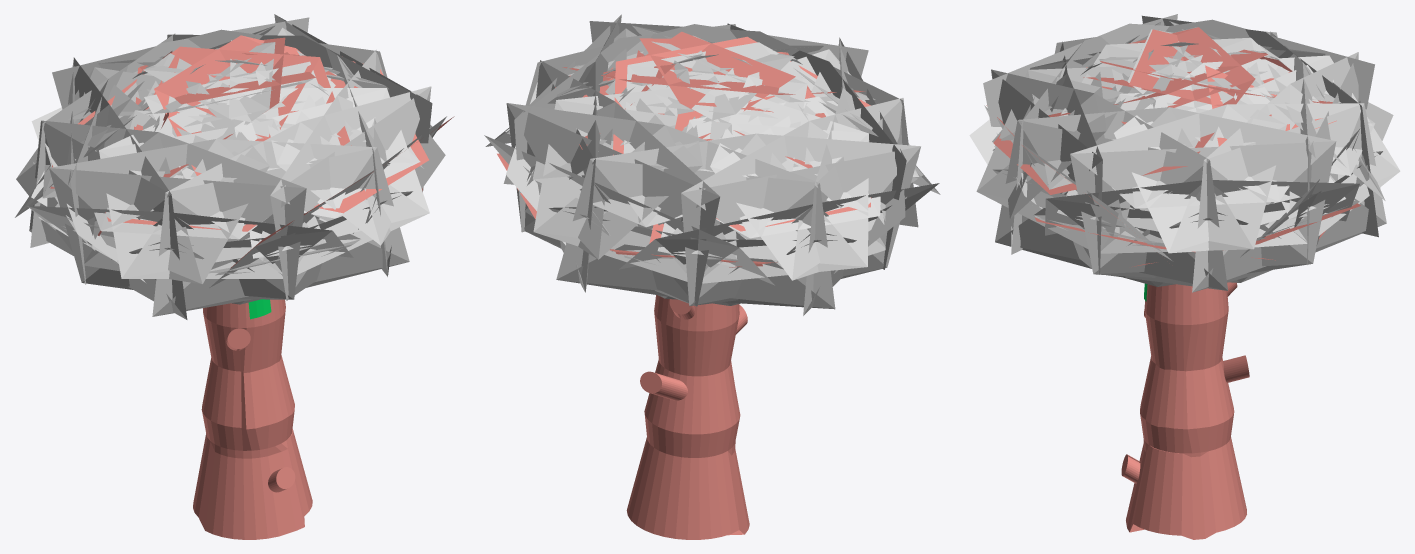
File: TreeHitAnim.fbx
The picture shows the model from 3 angles, left to right: view 1: azimuth 30°, elevation 25°; view 2: azimuth 150°, elevation 25°; view 3: azimuth 270°, elevation 25°; orthographic projection. The views are drawn at different scales.
Parts seen in each view (by area): view 1: Cylinder.001, Cylinder; view 2: Cylinder.001, Cylinder; view 3: Cylinder.001, Cylinder.
Part boxes in pixels (x1,y1,x2,y2): Cylinder.001: (15,14,446,319); Cylinder: (50,35,454,539); Cylinder.001: (484,14,940,315); Cylinder: (497,31,871,539); Cylinder.001: (969,14,1400,292); Cylinder: (986,27,1360,539).
Size of the model in its own units: 1047 by 1160 by 985.
